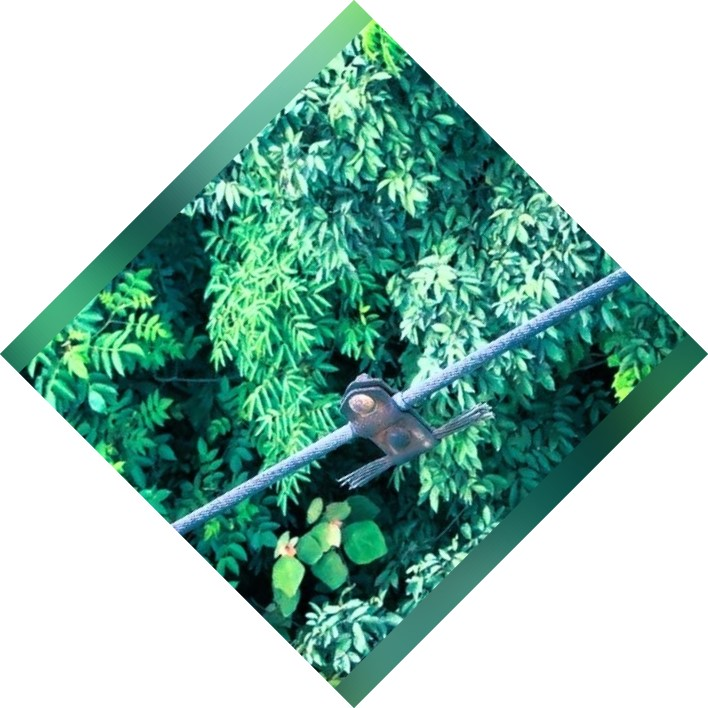Damage of shockproof hammer: (327, 345, 518, 500)
